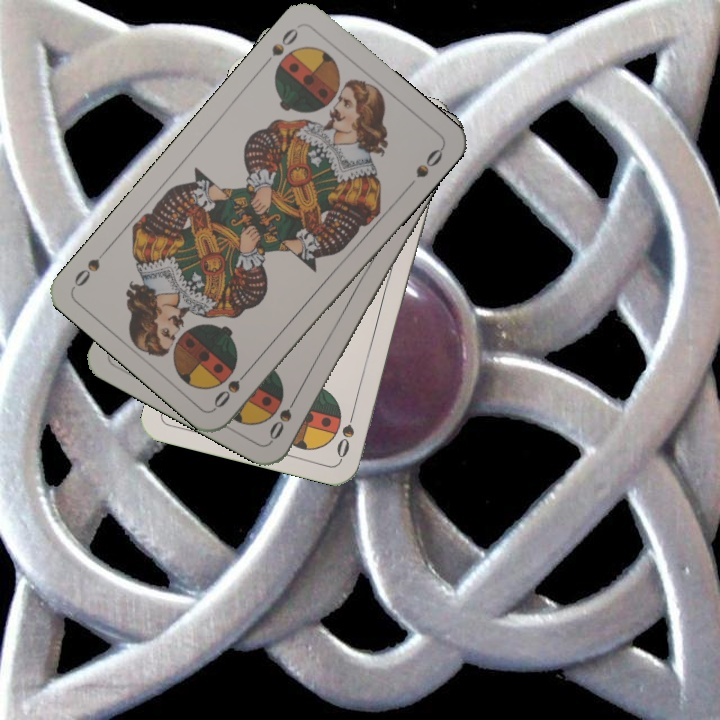SO: (209, 363, 254, 411), (265, 389, 302, 443), (259, 23, 301, 70), (332, 403, 359, 461)
